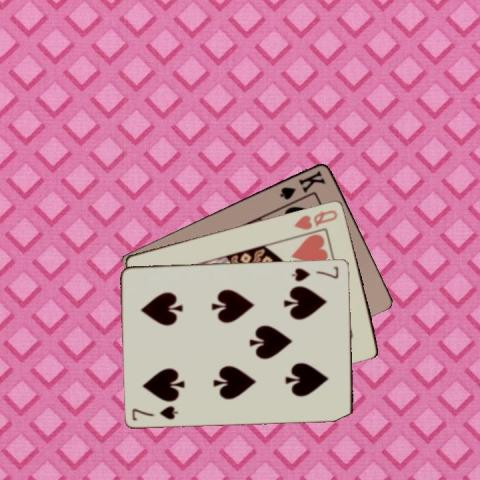7s: (289, 262, 340, 283), (130, 403, 180, 422)
Ks: (276, 168, 327, 202)
Qh: (292, 206, 340, 231)
